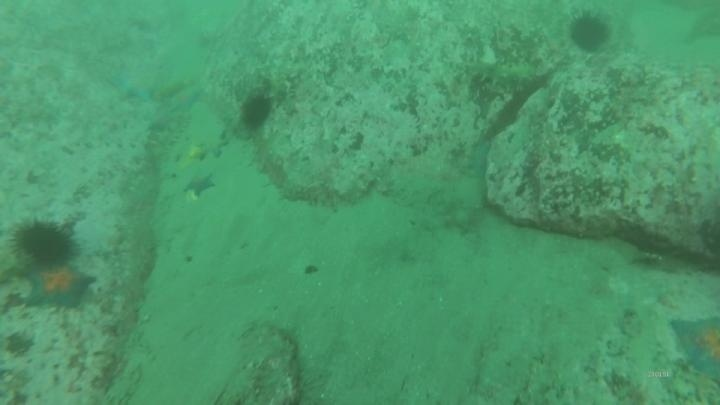echinus: (10, 216, 78, 266), (566, 10, 612, 54), (238, 91, 275, 131)
holothurian: (464, 54, 542, 94), (283, 179, 343, 211)
starfish: (20, 260, 98, 312), (667, 312, 720, 382), (110, 65, 159, 103), (465, 136, 494, 181), (167, 83, 205, 115), (181, 170, 218, 202)
